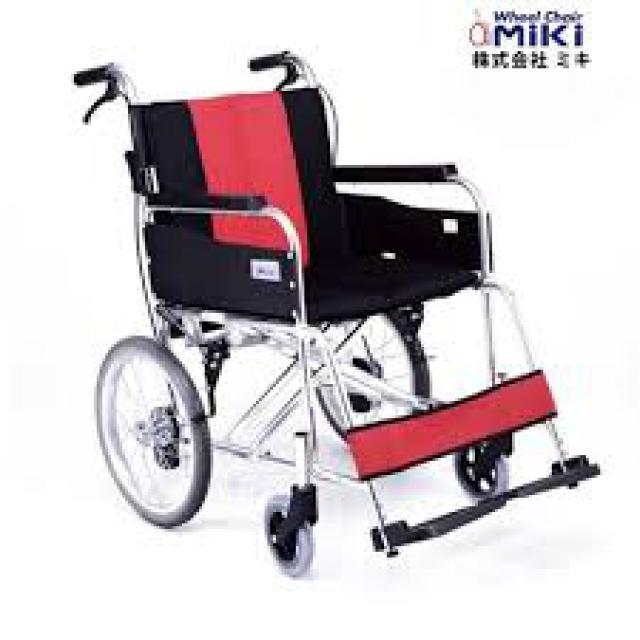wheelchair: (57, 45, 609, 586)
